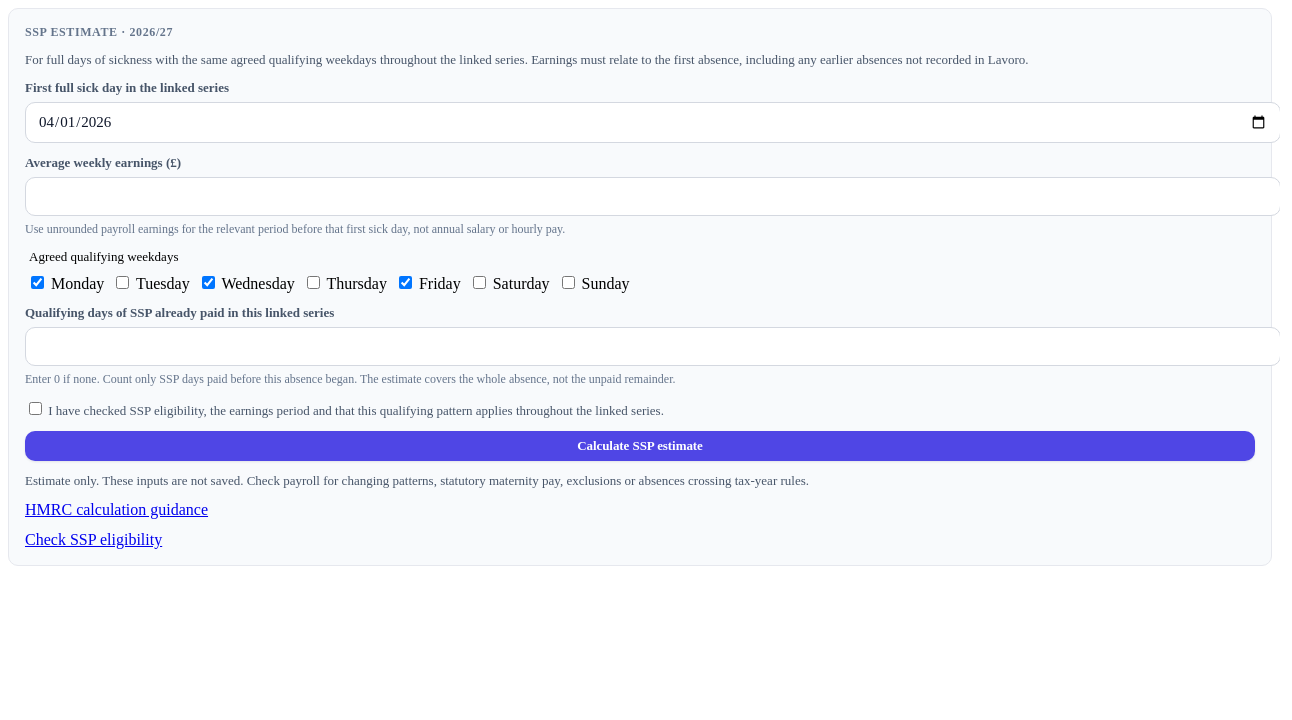
Scenario: blocks pre-April linked series instead of applying current rules
The width and height of the screenshot is (1292, 720).
Type "100" into the number field labelled "Average weekly earnings (£)" at (652, 196), box [25, 177, 1280, 216]
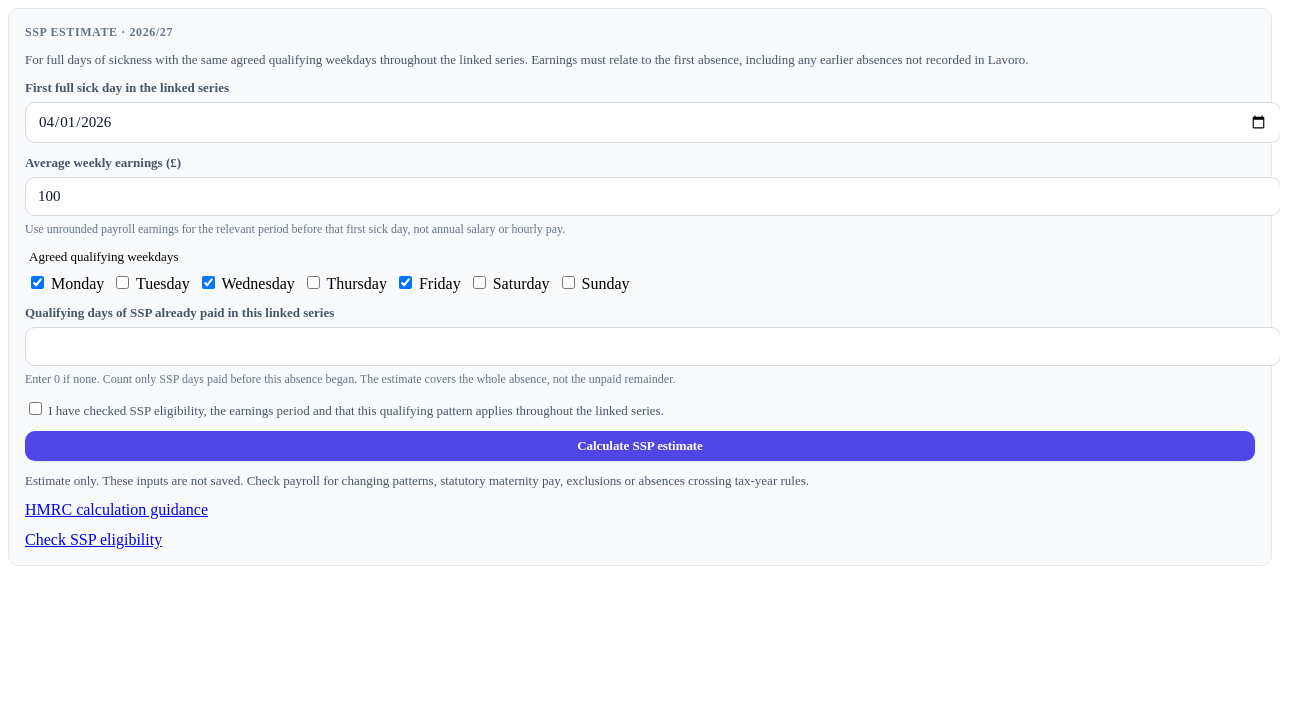
Type "0" into the number field labelled "Qualifying days of SSP already paid in this linked series" at (652, 346), box [25, 327, 1280, 366]
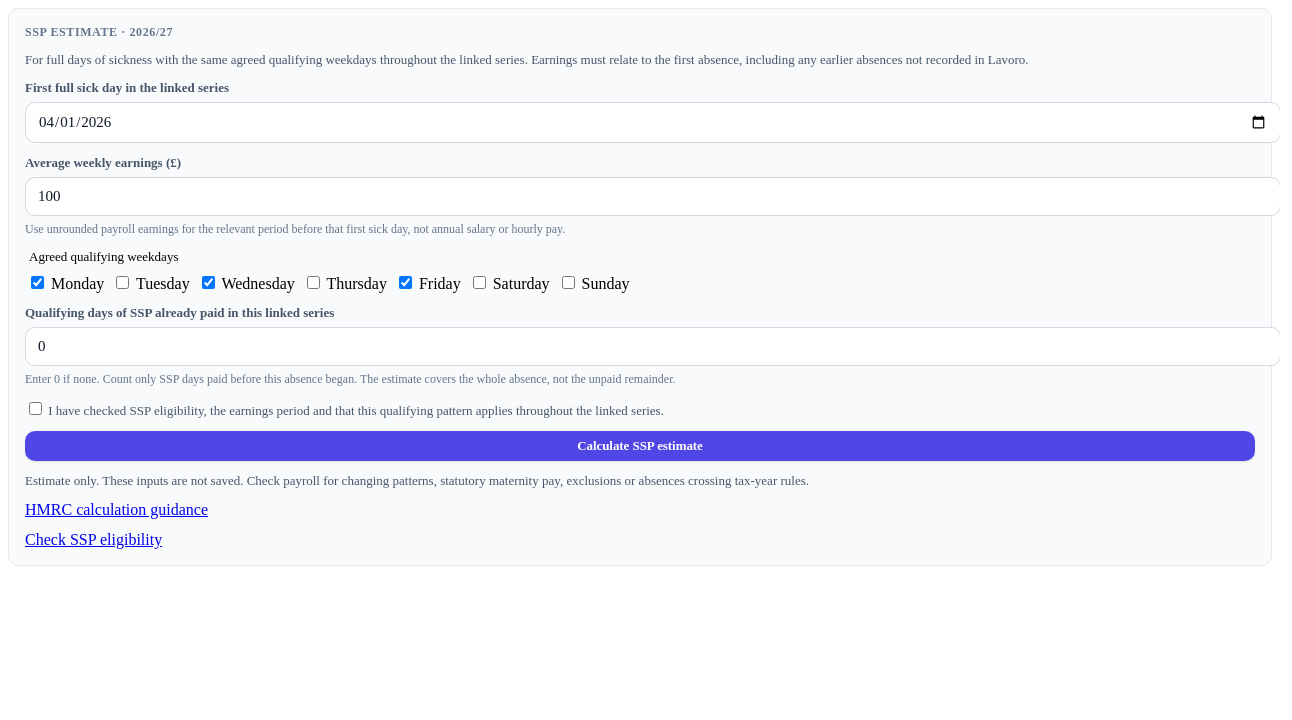
Click the checkbox labelled "I have checked SSP eligibility" at (36, 408), box [29, 402, 42, 415]
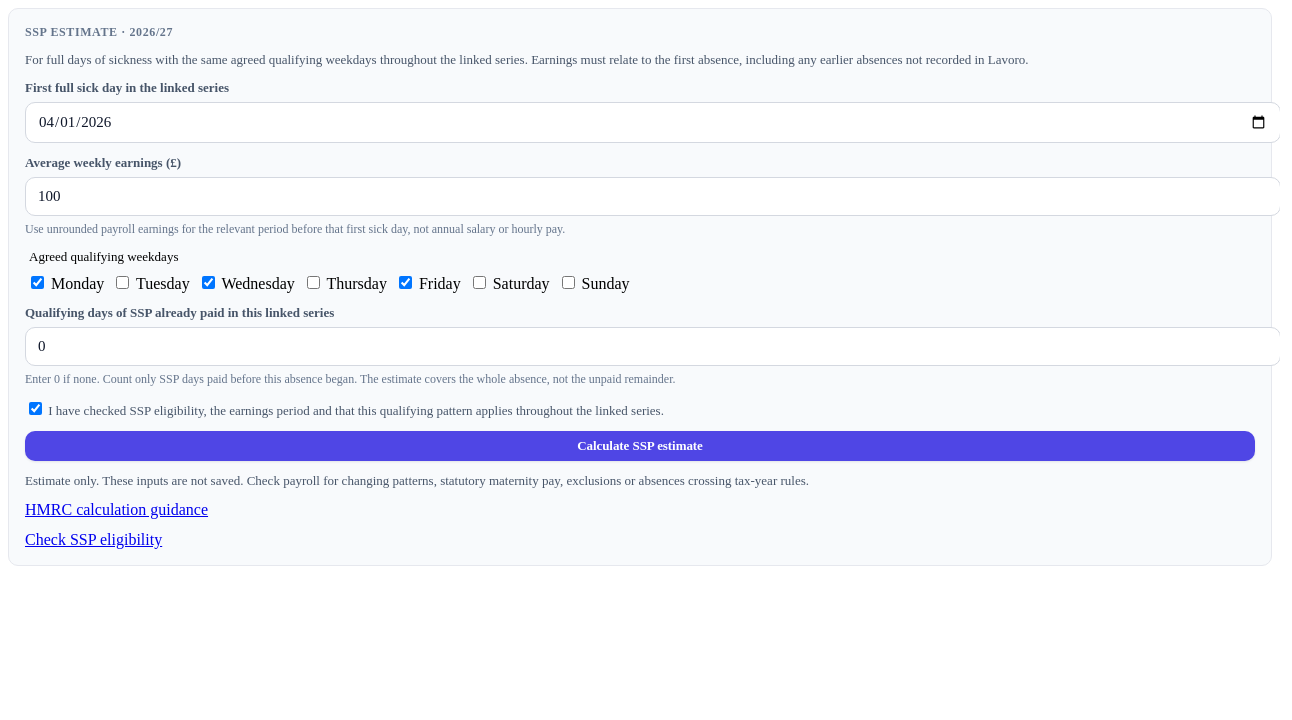
Click the button "Calculate SSP estimate" at (640, 446), box [25, 431, 1255, 461]
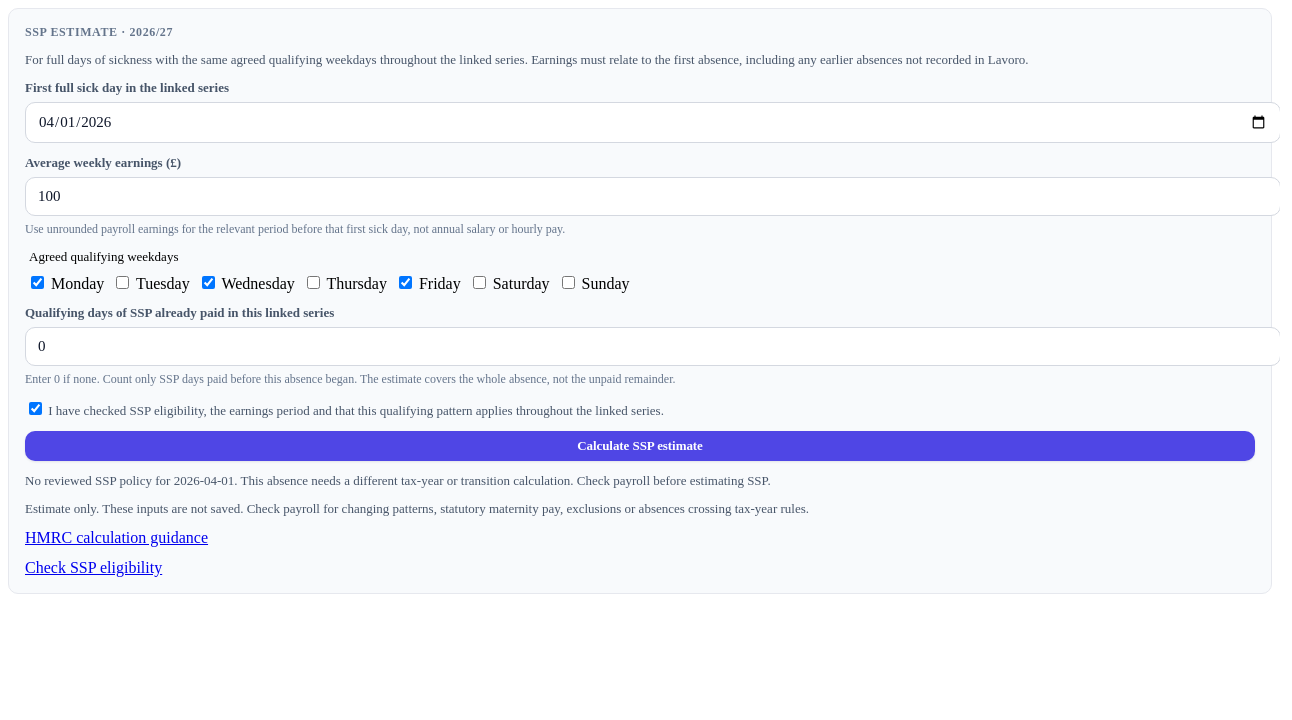
Expected: the message shows "transition", [25, 473, 771, 488]
